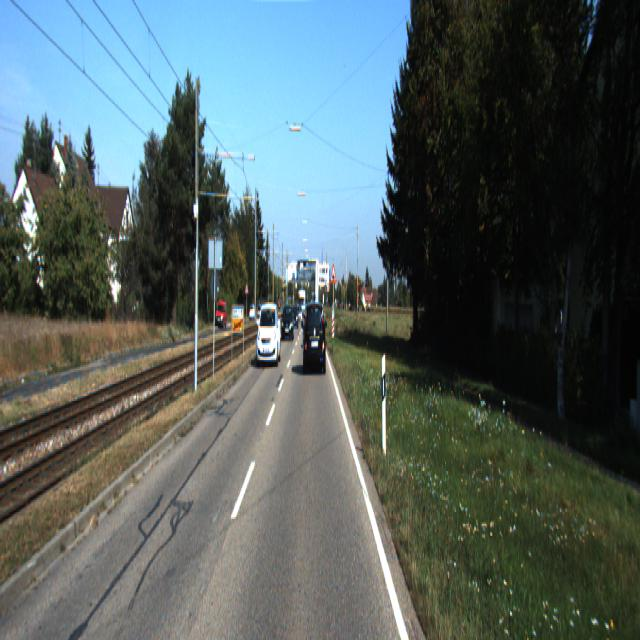Car: (256, 301, 282, 368), (304, 300, 326, 376), (282, 306, 294, 344), (290, 304, 300, 328)
